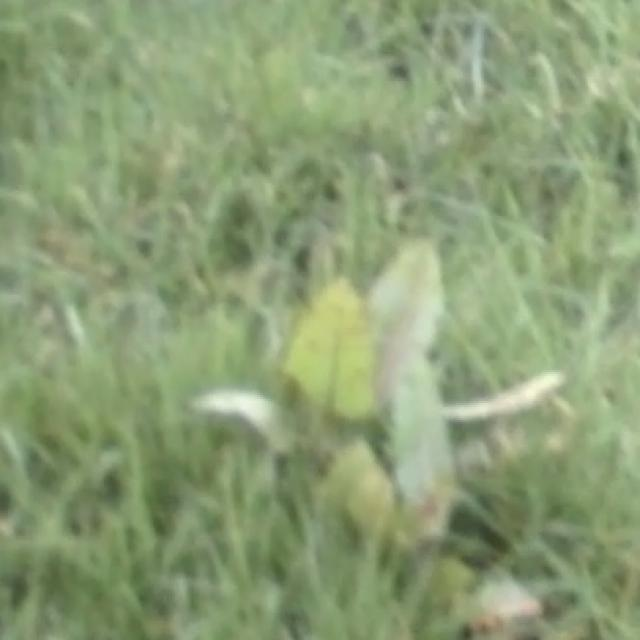organic waste: (185, 227, 545, 554)
